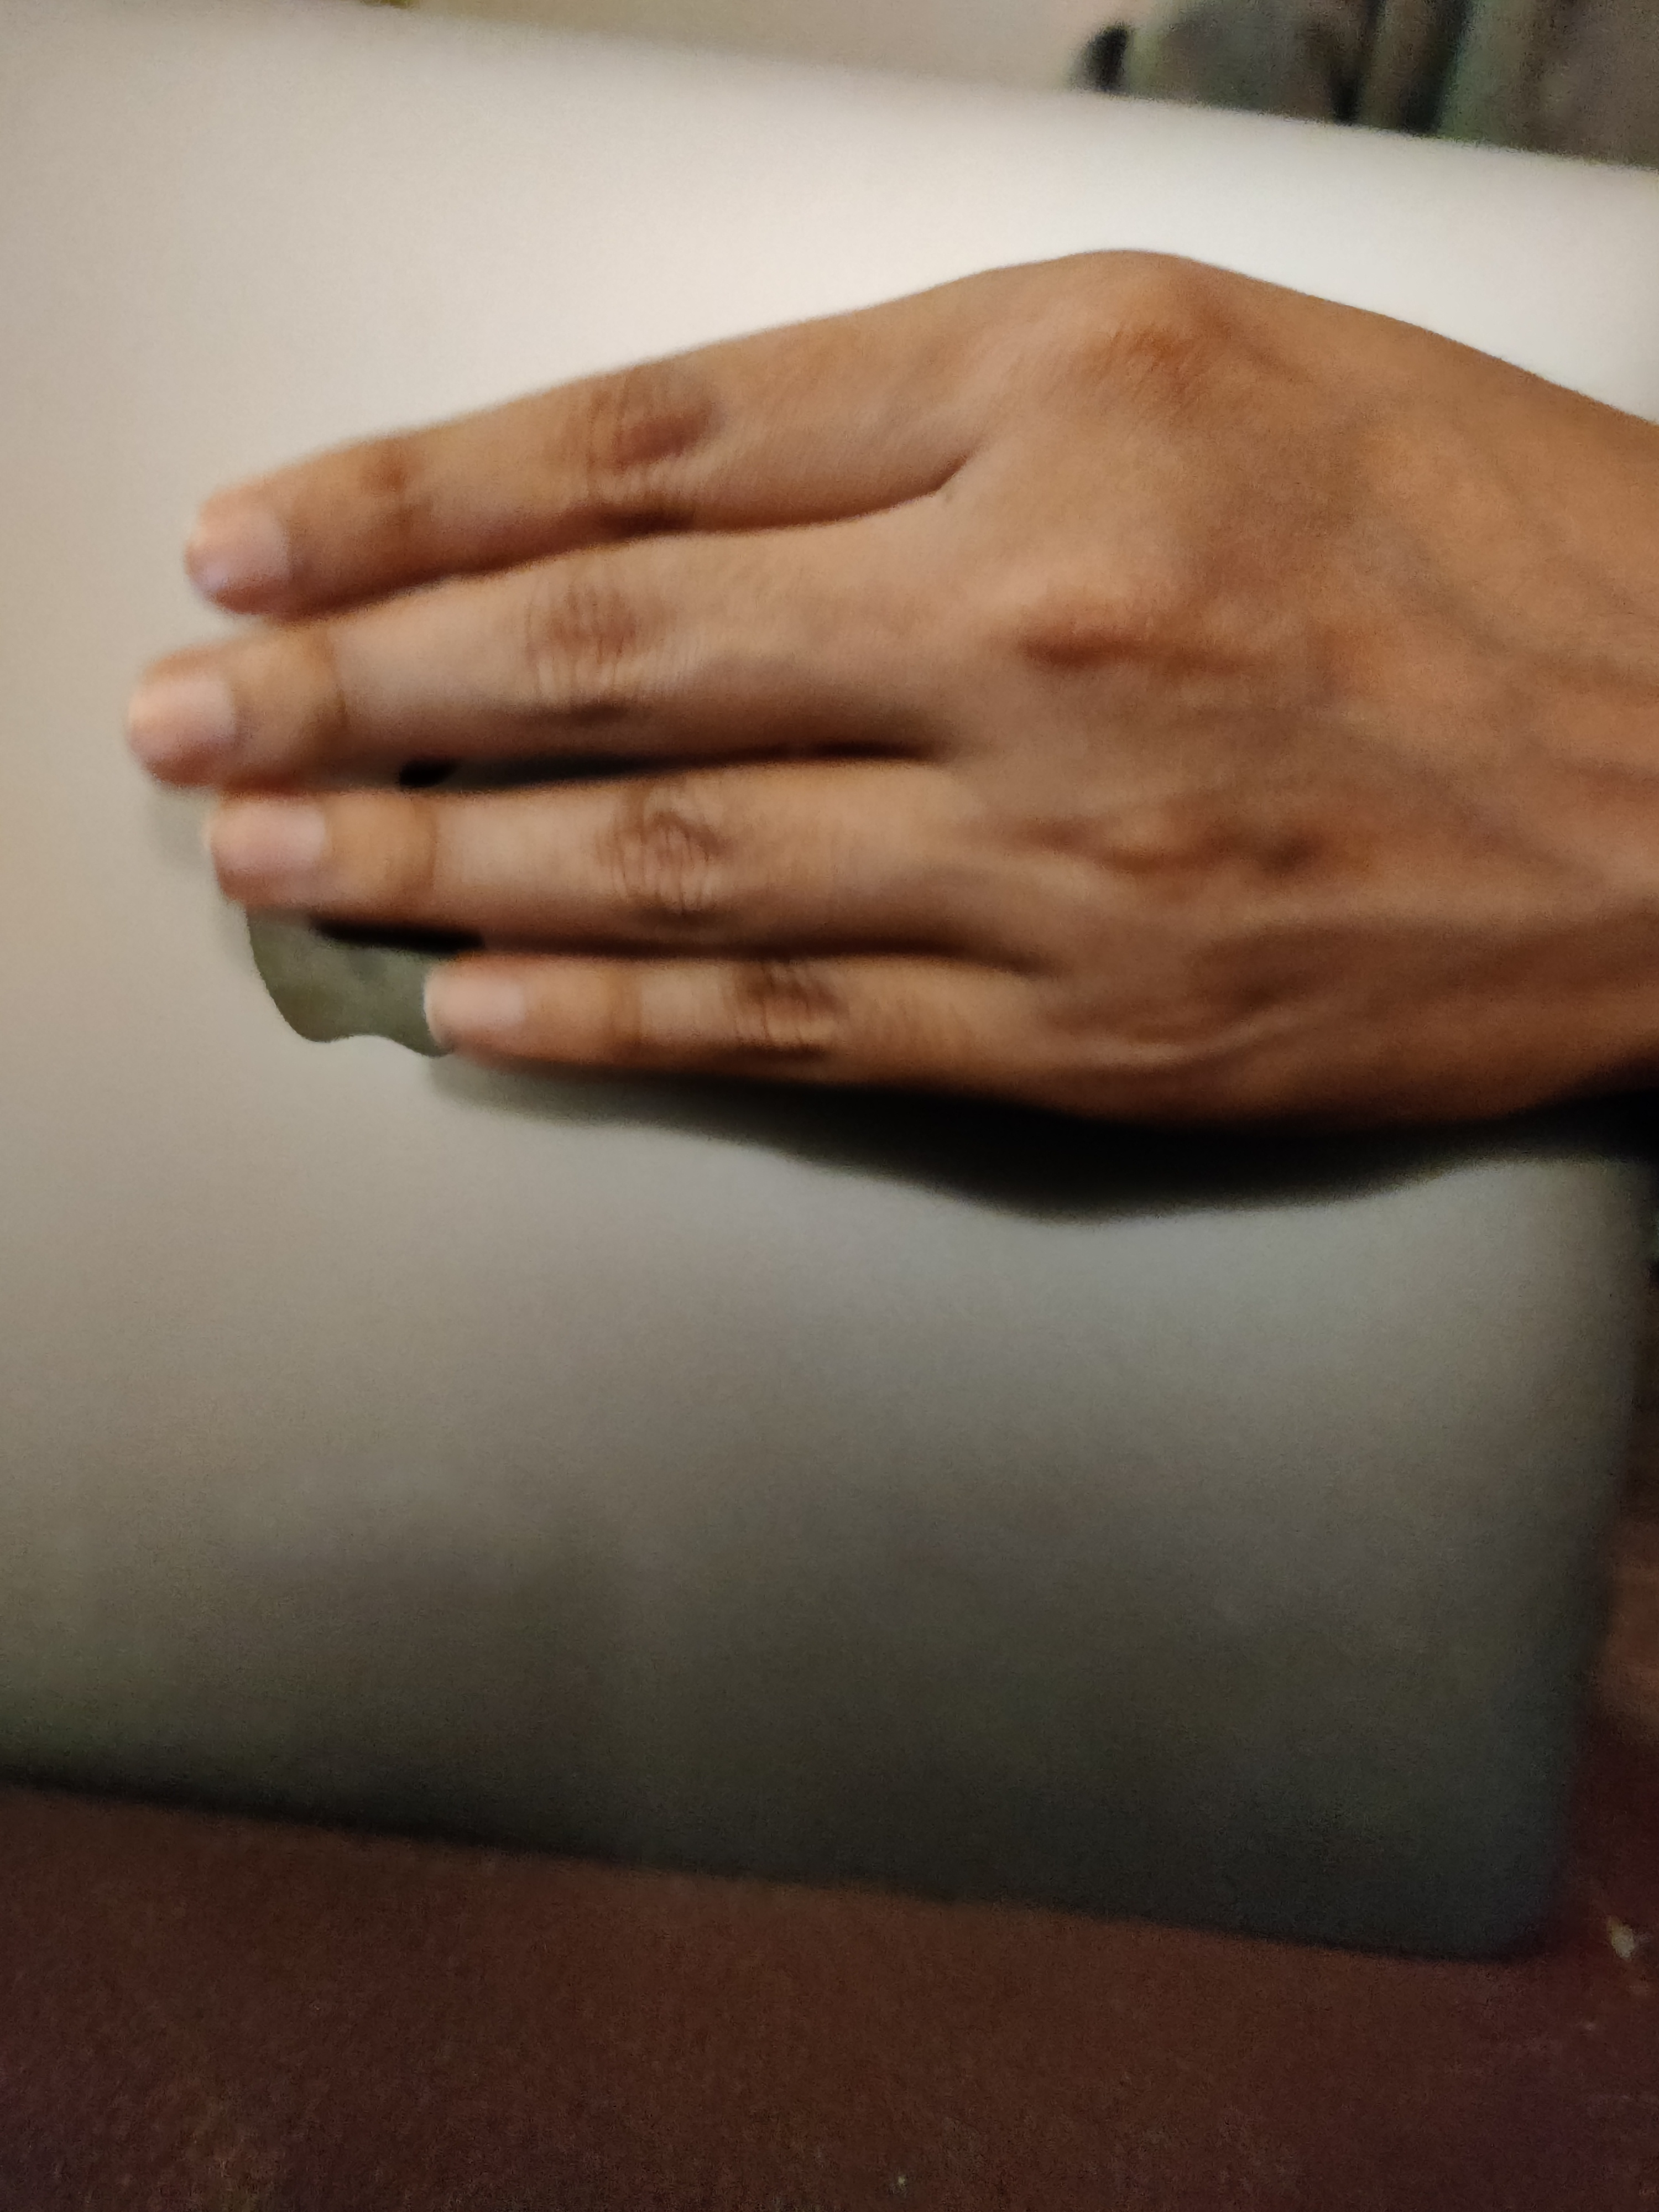right: (23, 75, 1629, 1299)
